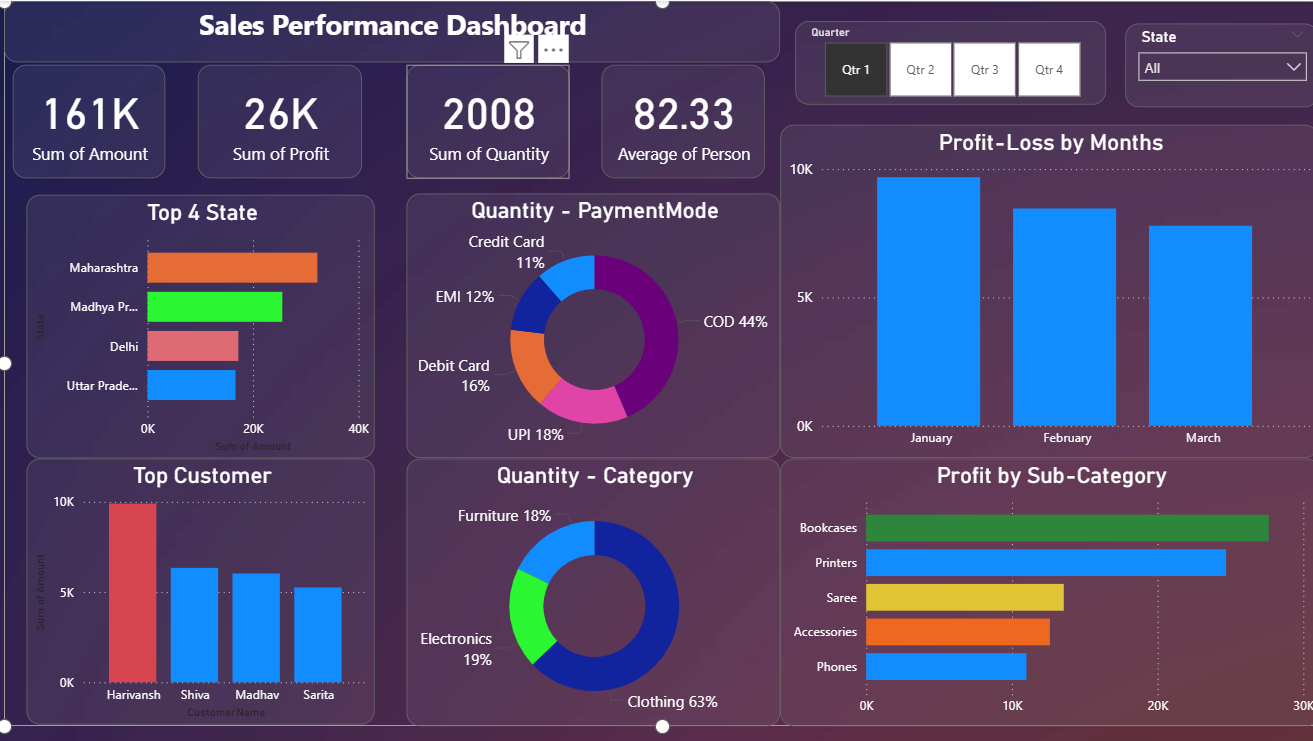

The page's visual inventory and layout, read from the dashboard file:
{"tool":"powerbi","page":{"name":"Page 1","canvas":[1280,720],"ordinal":0},"visuals":[{"type":"textbox","box":[10.1,0,748.8,59.2],"z":0,"group":"g1"},{"type":"clusteredColumnChart","title":"Profit-Loss by Months","fields":{"Category":["Orders.Order Date.Variation.Date Hierarchy.Month"],"Y":["Sum(Details.Profit)"]},"box":[758.9,119.7,519.4,321.7],"z":1000,"group":"g1"},{"type":"barChart","title":"Profit by Sub-Category","fields":{"Category":["Details.Sub-Category"],"Y":["Sum(Details.Amount)"]},"box":[758.9,441.5,520.8,258.3],"z":2000,"group":"g1"},{"type":"group","id":"g1","title":"Group 1","box":[10.1,0,1269.6,699.7],"z":2011},{"type":"donutChart","title":"Quantity - Category","fields":{"Category":["Details.Category"],"Y":["Sum(Details.Quantity)"]},"box":[398.2,441.5,360.7,258.3],"z":3000,"group":"g1"},{"type":"donutChart","title":" Quantity - PaymentMode","fields":{"Category":["Details.PaymentMode"],"Y":["Sum(Details.Quantity)"]},"box":[398.2,186.1,360.7,255.4],"z":4000,"group":"g1"},{"type":"card","fields":{"Values":["Sum(Details.Amount)"]},"box":[18.8,62,147.2,109.6],"z":5000,"group":"g1"},{"type":"card","fields":{"Values":["Sum(Details.Profit)"]},"box":[197.7,62,158.7,109.6],"z":6000,"group":"g1"},{"type":"card","fields":{"Values":["Sum(Details.Quantity)"]},"box":[398.2,62,157.3,109.6],"z":7000,"group":"g1"},{"type":"card","fields":{"Values":["Avg(Details.AOV)"]},"box":[587.2,62,157.3,109.6],"z":8000,"group":"g1"},{"type":"clusteredBarChart","title":"Top 4 State","fields":{"Category":["Orders.State"],"Y":["Sum(Details.Amount)"]},"box":[32,186.9,336.4,254.5],"z":9000,"group":"g1"},{"type":"columnChart","title":"Top Customer","fields":{"Category":["Orders.CustomerName"],"Y":["Sum(Details.Amount)"]},"box":[32,442,336,257],"z":10000,"group":"g1"},{"type":"slicer","fields":{"Values":["Orders.Order Date.Variation.Date Hierarchy.Quarter"]},"box":[773.3,18.8,300.1,80.8],"z":11000,"group":"g1"},{"type":"slicer","fields":{"Values":["Orders.State"]},"box":[1092.2,21.6,186.1,80.8],"z":12000,"group":"g1"}]}

Visuals, with their boxes in screenshot pixels (x1, y1, x2, y2), scaled from the page's 1280x720 canvas onto the 1313x741 screenshot:
textbox: bbox(10, 0, 778, 61)
"Profit-Loss by Months" clusteredColumnChart: bbox(778, 123, 1311, 454)
"Profit by Sub-Category" barChart: bbox(778, 454, 1312, 720)
"Group 1" group: bbox(10, 0, 1312, 720)
"Quantity - Category" donutChart: bbox(408, 454, 778, 720)
" Quantity - PaymentMode" donutChart: bbox(408, 192, 778, 454)
card - Sum(Details.Amount): bbox(19, 64, 170, 177)
card - Sum(Details.Profit): bbox(203, 64, 366, 177)
card - Sum(Details.Quantity): bbox(408, 64, 570, 177)
card - Avg(Details.AOV): bbox(602, 64, 764, 177)
"Top 4 State" clusteredBarChart: bbox(33, 192, 378, 454)
"Top Customer" columnChart: bbox(33, 455, 377, 719)
slicer - Orders.Order Date.Variation.Date Hierarchy.Quarter: bbox(793, 19, 1101, 103)
slicer - Orders.State: bbox(1120, 22, 1311, 105)
